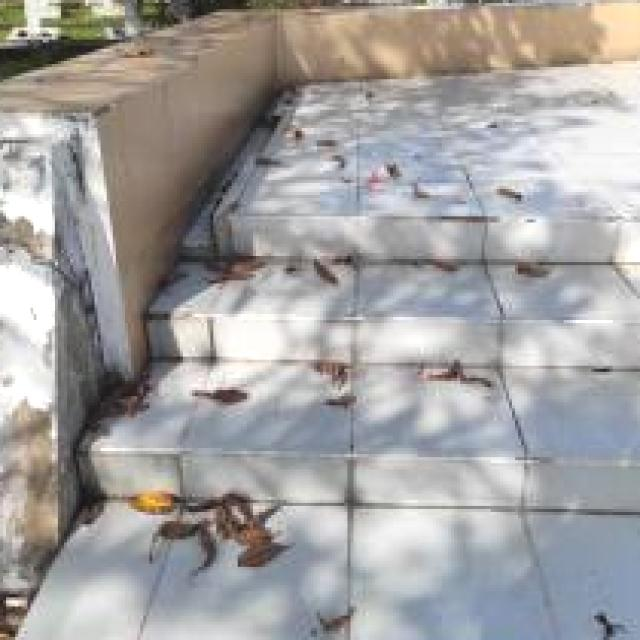upstair: (37, 187, 640, 640)
